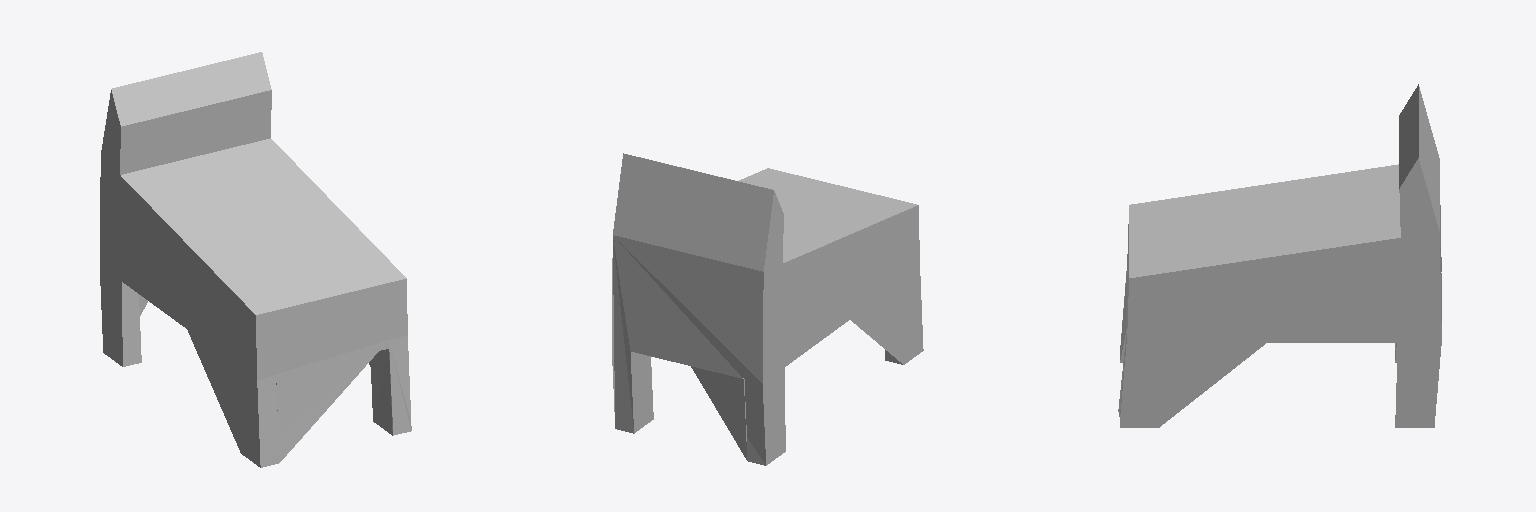
The model's file is pinballtable.obj.
3 views of the same model, side by side, from view 1: azimuth 30°, elevation 25°; view 2: azimuth 150°, elevation 25°; view 3: azimuth 270°, elevation 25° (orthographic).
Visible parts, largest first — view 1: Cube; view 2: Cube; view 3: Cube.
Boxes of the visible parts, x1=… form: Cube: x1=100, y1=52, x2=411, y2=467; Cube: x1=612, y1=153, x2=923, y2=465; Cube: x1=1118, y1=84, x2=1441, y2=427.
Size of the model in its own units: 144 by 246 by 267.